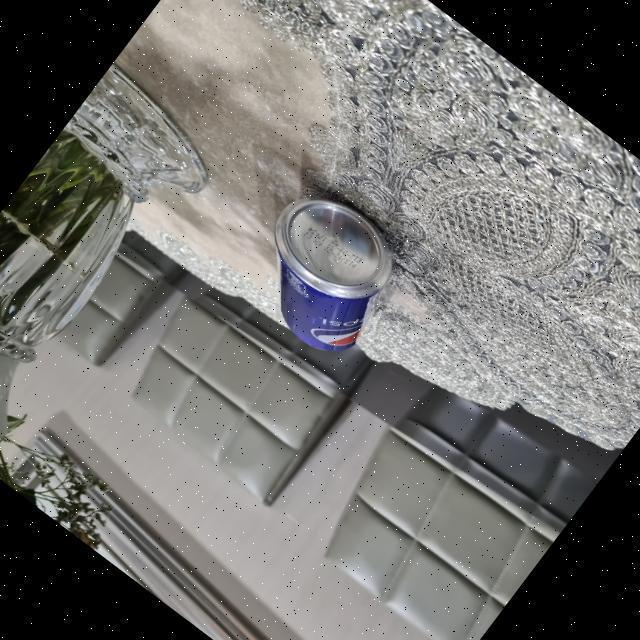can: (229, 174, 426, 371)
